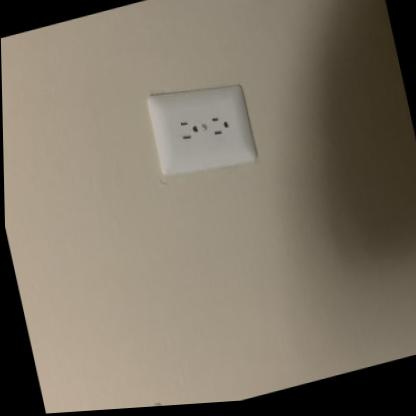OUTLET: (146, 75, 256, 183)
